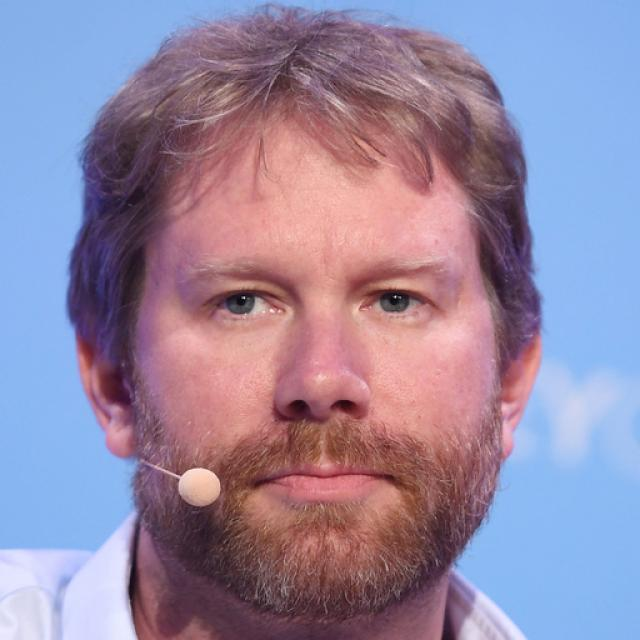neutral: (135, 120, 503, 615)
